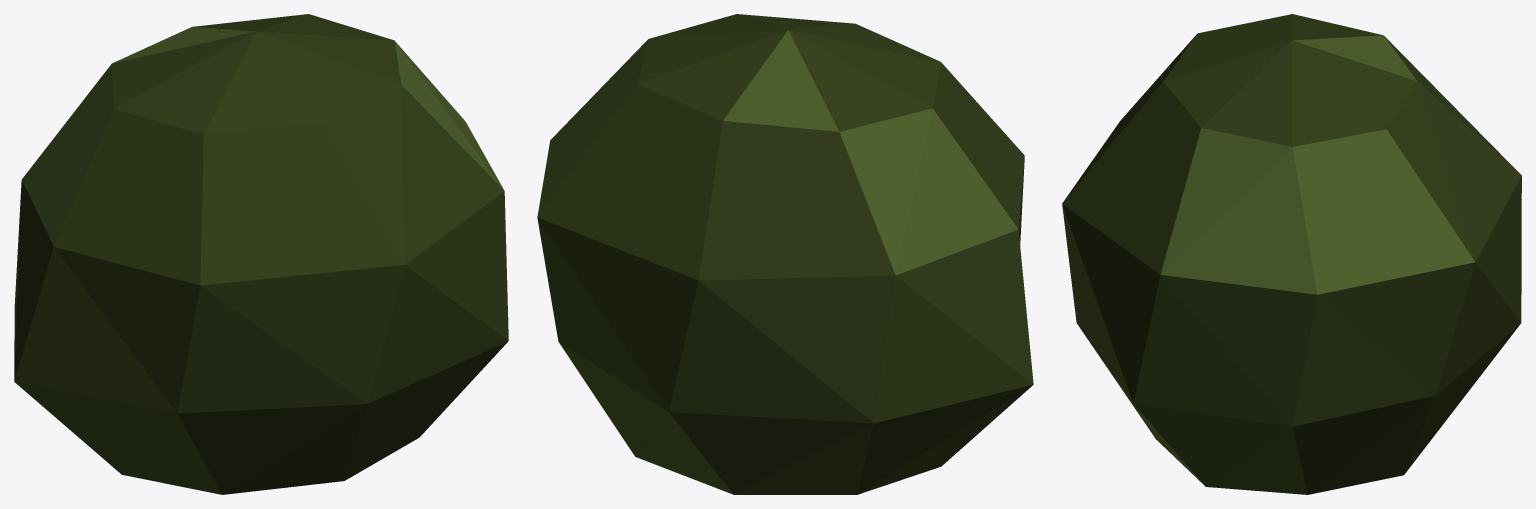
File: Bush_Round_01.fbx
3 views of the same model, side by side, from view 1: azimuth 30°, elevation 25°; view 2: azimuth 150°, elevation 25°; view 3: azimuth 270°, elevation 25° (orthographic). The views are drawn at different scales.
Visible parts, largest first — view 1: Bush_Round_01_Mesh; view 2: Bush_Round_01_Mesh; view 3: Bush_Round_01_Mesh.
Part boxes in pixels (bbox=[...]): Bush_Round_01_Mesh: bbox=[14, 14, 508, 494]; Bush_Round_01_Mesh: bbox=[537, 14, 1033, 494]; Bush_Round_01_Mesh: bbox=[1062, 14, 1521, 494].
Bounding box in the file's own units: 0.9093 × 0.832 × 0.803.
1 material, 1 textured.
